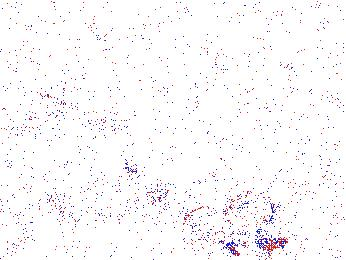flame jellyfish: (225, 188, 287, 253), (180, 204, 246, 257), (124, 136, 170, 206)
